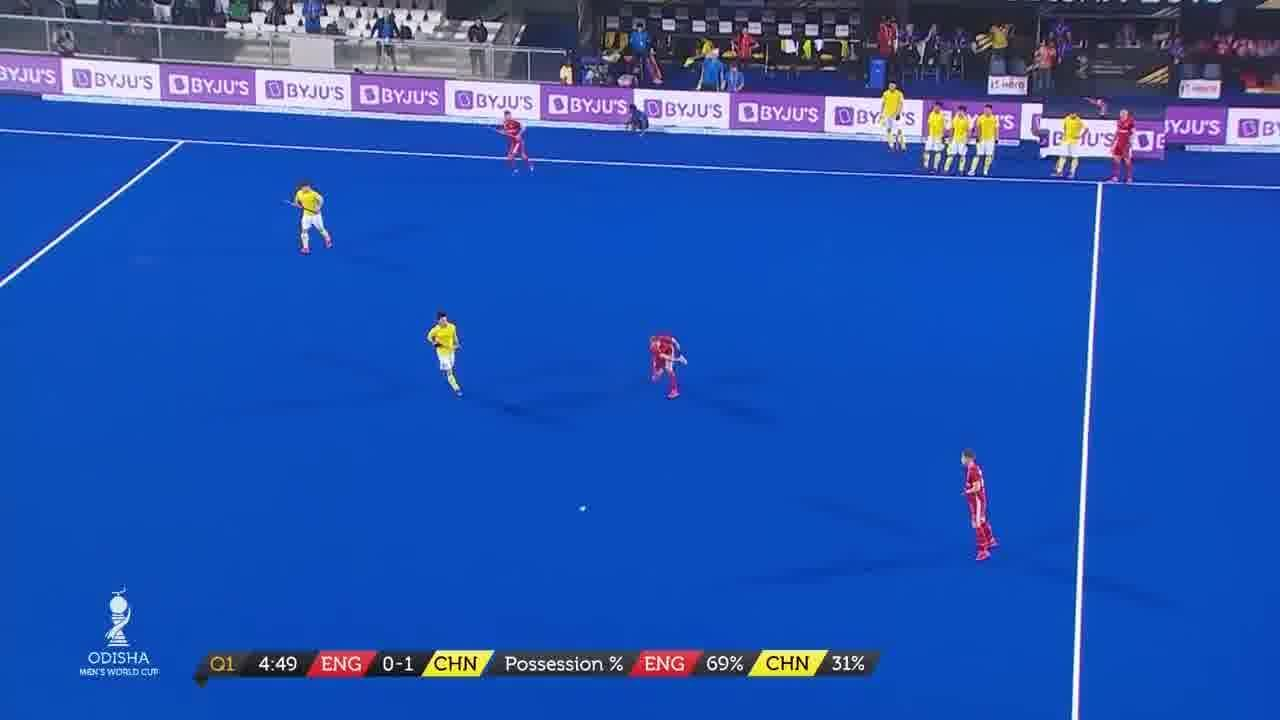ball: (576, 502, 592, 514)
